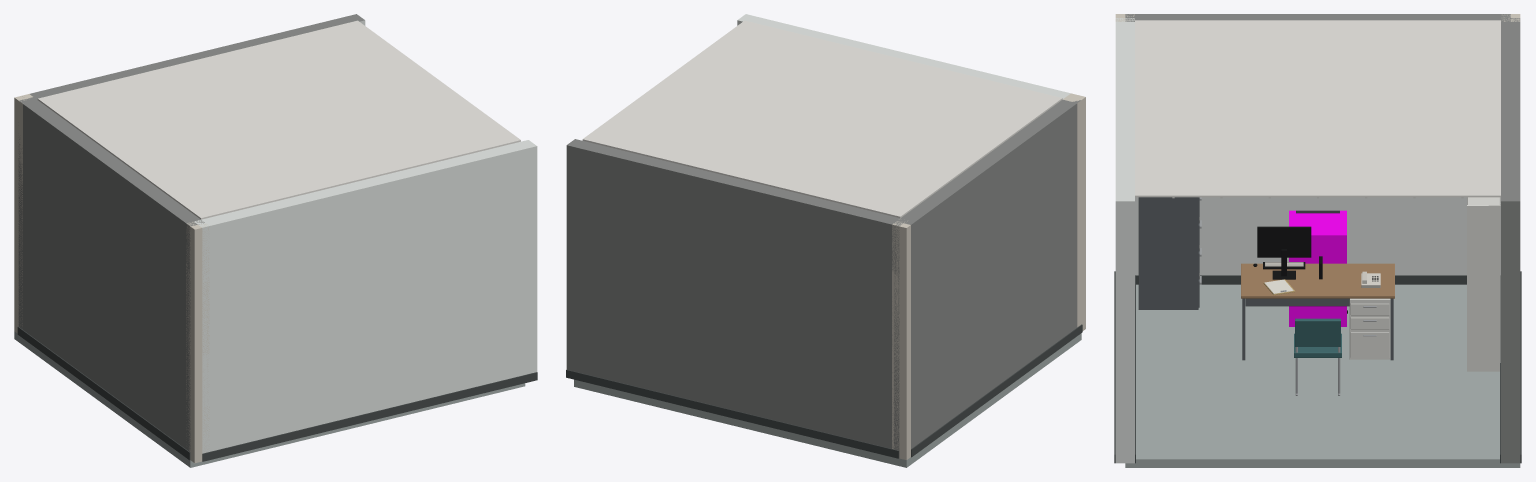
Rendered from ENV_ResearchPhysicianOfficeA.glb.
3 views of the same model, side by side, from view 1: azimuth 30°, elevation 25°; view 2: azimuth 150°, elevation 25°; view 3: azimuth 270°, elevation 25° (orthographic). The views are drawn at different scales.
Parts seen in each view (by area): view 1: ENV_ResearchPhysicianOfficeA_Architecture, ENV_ResearchPhysicianOfficeA_Ceiling, ENV_ResearchPhysicianOfficeA_Posts; view 2: ENV_ResearchPhysicianOfficeA_Architecture, ENV_ResearchPhysicianOfficeA_Ceiling, ENV_ResearchPhysicianOfficeA_Posts; view 3: ENV_ResearchPhysicianOfficeA_Architecture, ENV_ResearchPhysicianOfficeA_Ceiling, PROP_Desk_Clinical_Mesh, PROP_Cabinet_Filing_4Drawer_Mesh, PROP_Bookcase_Binders_Mesh, PROP_Chair_Office_COL-colonly.001, PROP_Terminal_EHR_Mesh.001, PROP_Chair_Visitor_Mesh.
Boxes of the visible parts, x1,y1,x2,y2 form: ENV_ResearchPhysicianOfficeA_Architecture: (14,14,537,467); ENV_ResearchPhysicianOfficeA_Ceiling: (37,20,520,219); ENV_ResearchPhysicianOfficeA_Posts: (14,94,209,463); ENV_ResearchPhysicianOfficeA_Architecture: (566,14,1082,467); ENV_ResearchPhysicianOfficeA_Ceiling: (582,20,1062,218); ENV_ResearchPhysicianOfficeA_Posts: (892,93,1085,459); ENV_ResearchPhysicianOfficeA_Architecture: (1114,14,1521,467); ENV_ResearchPhysicianOfficeA_Ceiling: (1135,20,1500,198); PROP_Desk_Clinical_Mesh: (1241,263,1394,360); PROP_Cabinet_Filing_4Drawer_Mesh: (1138,197,1201,309); PROP_Bookcase_Binders_Mesh: (1467,197,1500,371); PROP_Chair_Office_COL-colonly.001: (1289,210,1346,326); PROP_Terminal_EHR_Mesh.001: (1253,226,1322,279); PROP_Chair_Visitor_Mesh: (1294,318,1341,395).
Size of what is drawn, in the model's own units: 4.61 by 3.12 by 4.22.
